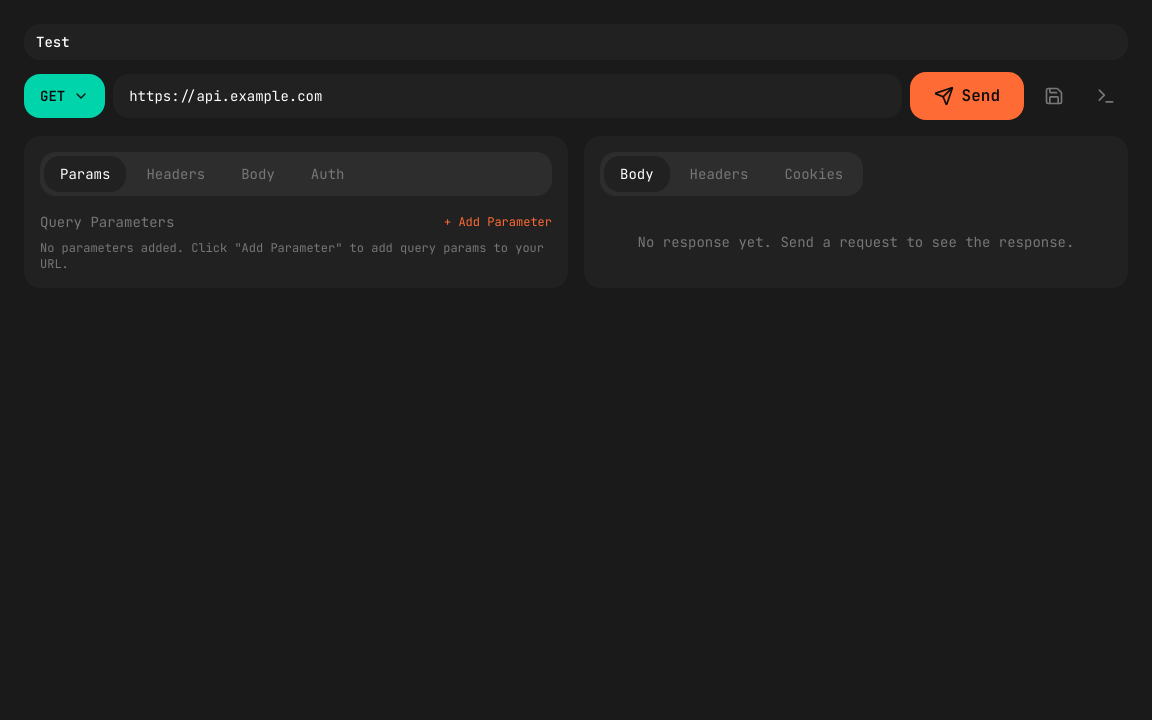
Test: RequestBuilder › hides body editor when selecting None body type
# Click the first body button (request tab)
Click the 1st button "body": (258, 174) [225,156,291,192]
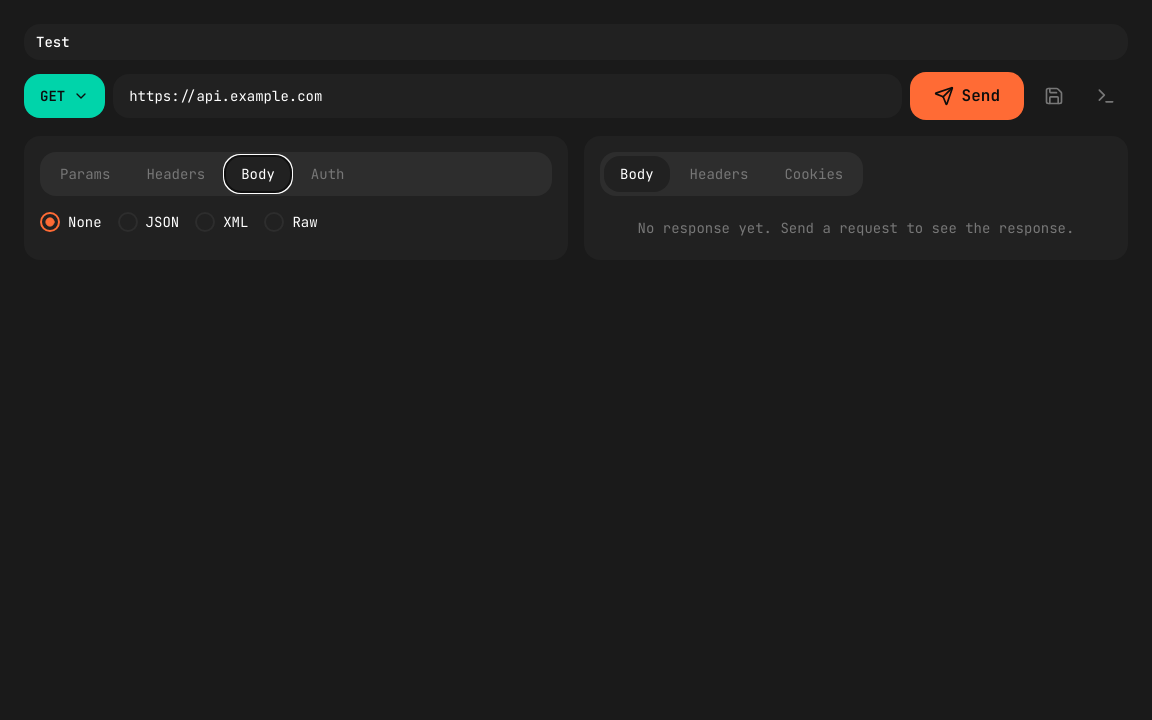
# Select JSON first
Click the button "JSON": (148, 222) [118,212,179,232]
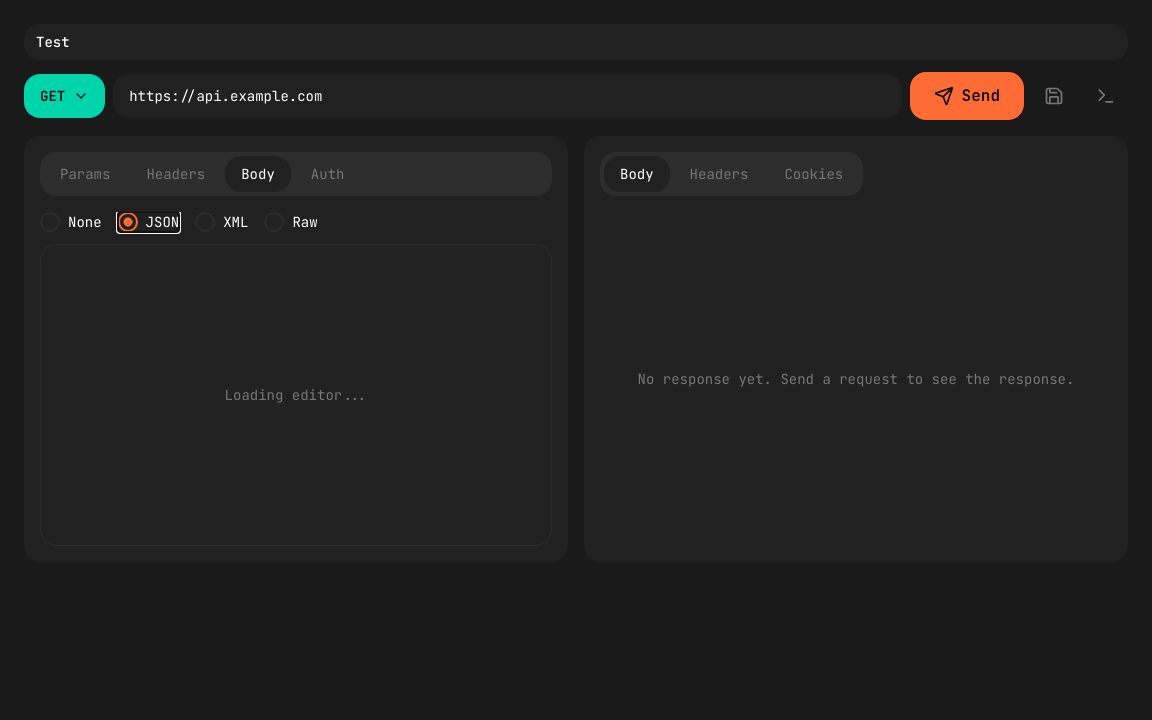
# Then select None
Click the button "None": (71, 222) [40,212,102,232]
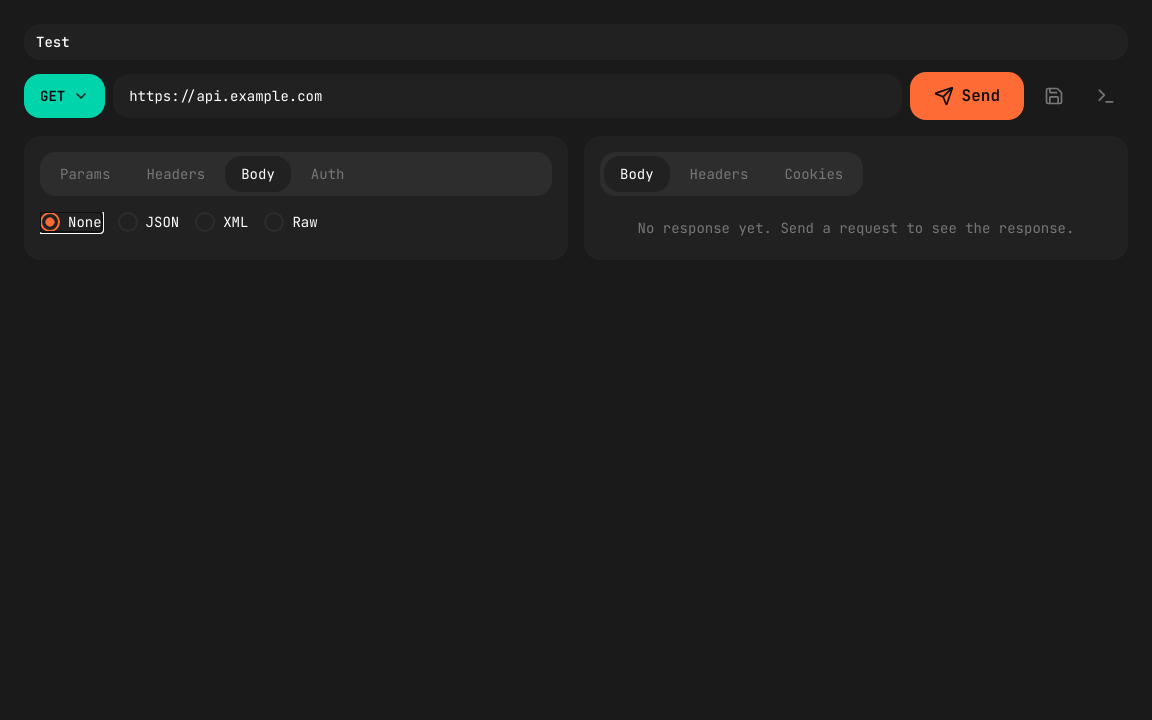
Expected: the text "Loading editor" is gone
